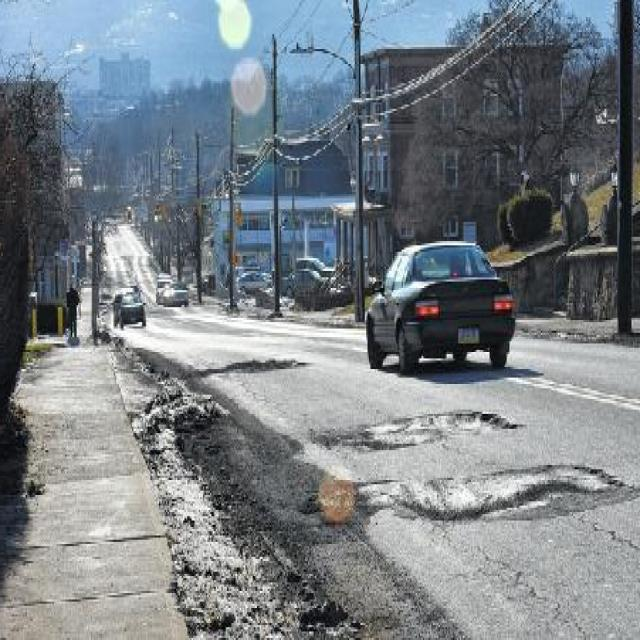pothole: (397, 458, 636, 520), (359, 408, 524, 452), (220, 356, 311, 374)
